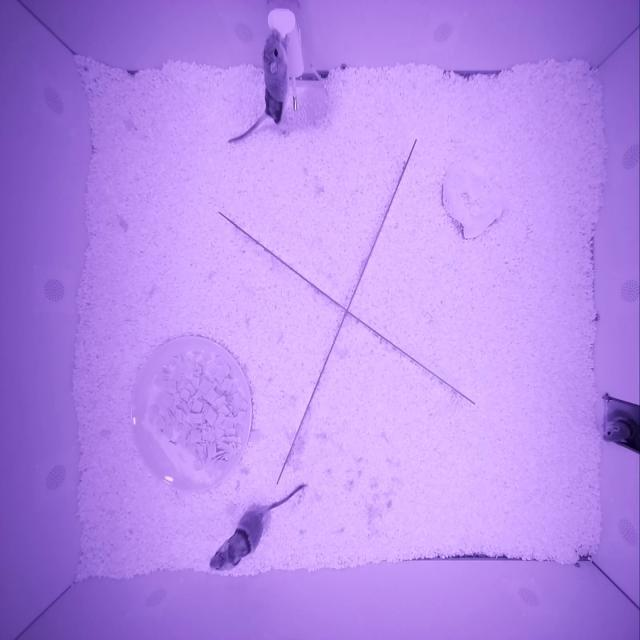adult_back: (261, 28, 286, 136)
adult_front: (210, 505, 264, 571)
pup_h_stripe: (602, 416, 638, 443)
